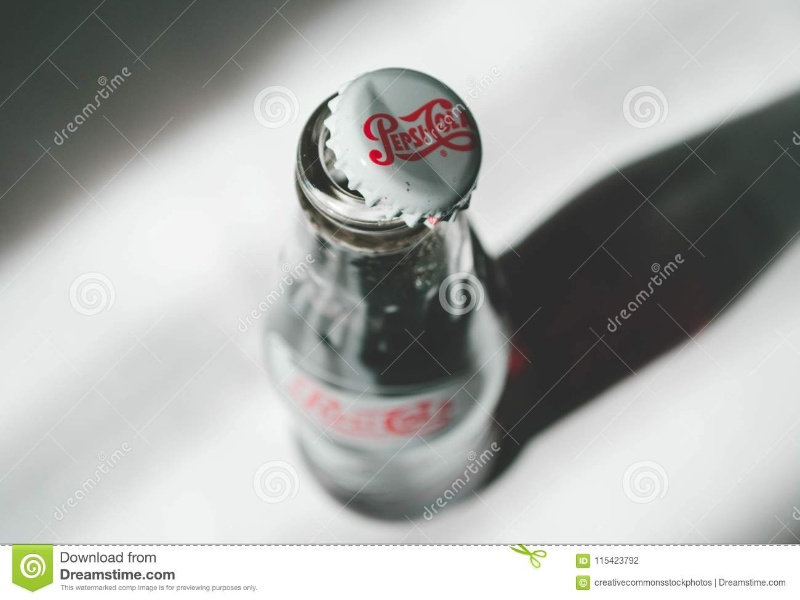Glass bottle: (227, 61, 540, 528)
